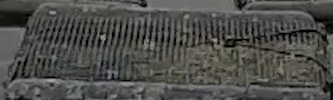bag: (4, 3, 321, 100)
